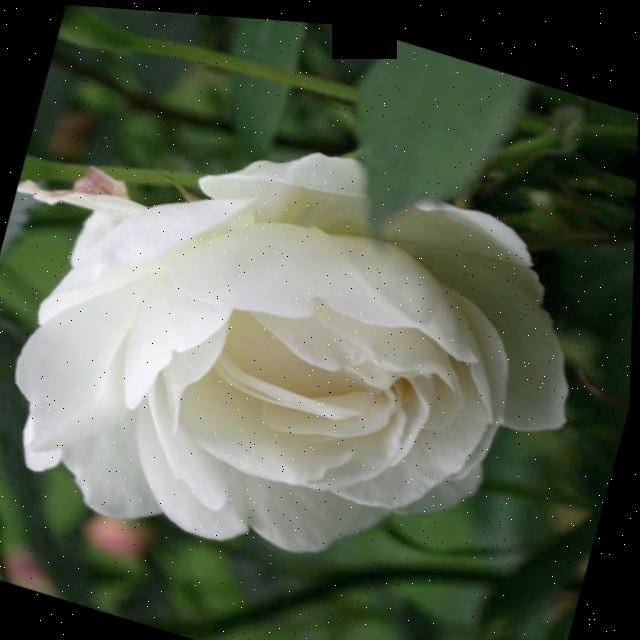rose: (0, 25, 639, 640)
